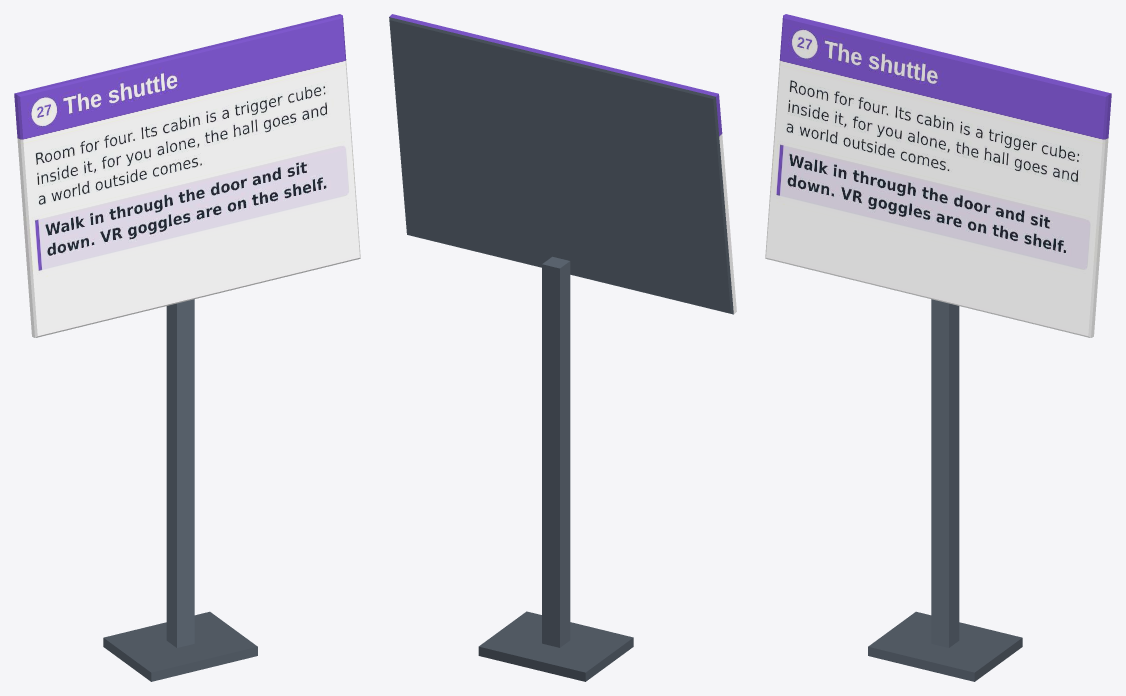
File: 27-the-shuttle.glb
3 renders of one model, left to right at view 1: azimuth 30°, elevation 25°; view 2: azimuth 150°, elevation 25°; view 3: azimuth 330°, elevation 25°, orthographic.
Visible parts, largest first — view 1: board; view 2: board; view 3: board.
Boxes of the visible parts, x1=… form: board: x1=14, y1=14, x2=360, y2=681; board: x1=389, y1=14, x2=736, y2=681; board: x1=765, y1=14, x2=1111, y2=681.
Size of the model in its own units: 1.1 by 1.92 by 0.28.
1 material, 1 textured.
